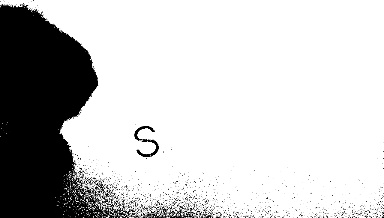S: (125, 121, 165, 159)
